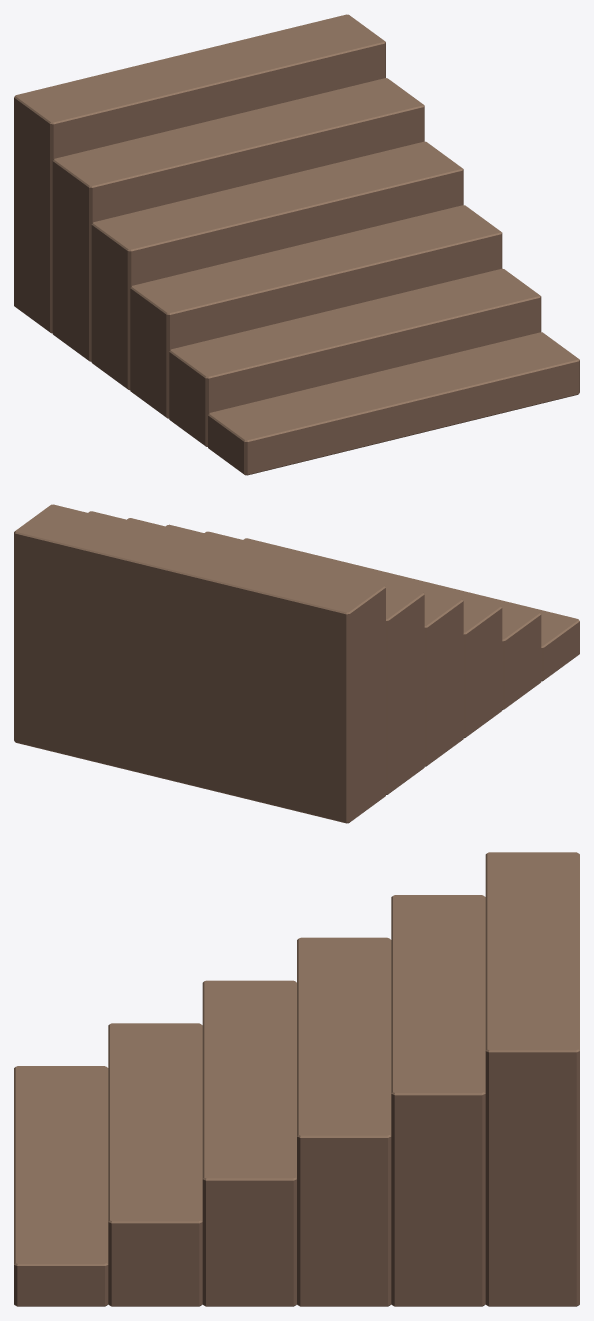
File: stair-full.glb
3 renders of one model, top to bottom at view 1: azimuth 30°, elevation 25°; view 2: azimuth 150°, elevation 25°; view 3: azimuth 270°, elevation 25°, orthographic. The views are drawn at different scales.
Visible parts, largest first — view 1: stair-full__body; view 2: stair-full__body; view 3: stair-full__body.
Boxes of the visible parts, x1,y1,x2,y2 form: stair-full__body: (14,14,579,475); stair-full__body: (14,504,579,823); stair-full__body: (14,852,579,1306).
Bounding box in the file's own units: 2 × 1.2 × 2.4.
